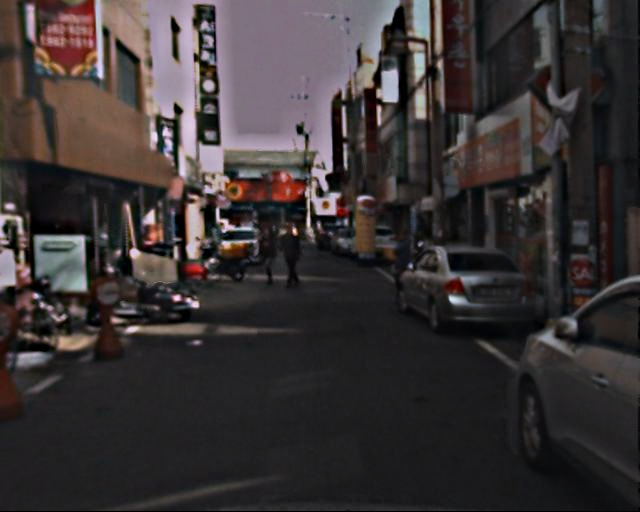person: (277, 214, 306, 290), (387, 222, 414, 301), (257, 217, 281, 283)
